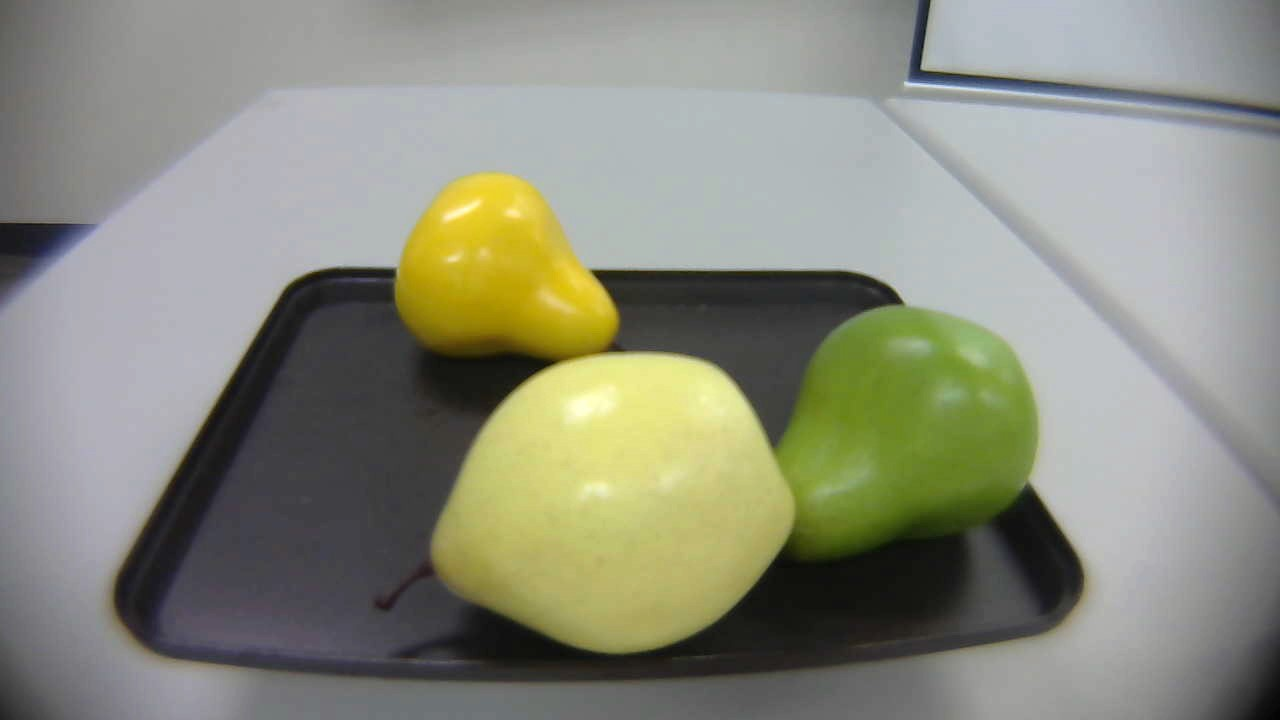green pear: (739, 301, 1062, 584)
western pear: (373, 347, 802, 656)
yellow pear: (368, 166, 644, 385)
